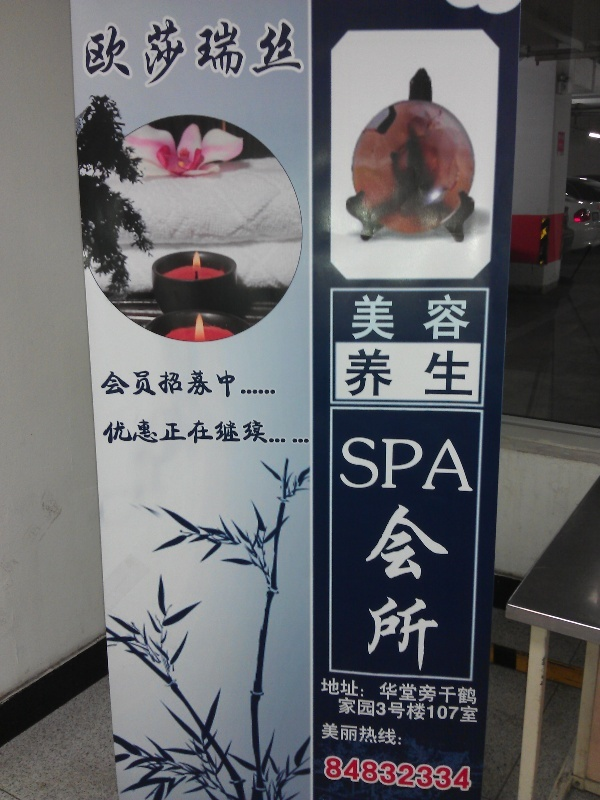text: (369, 499, 384, 673), (385, 499, 400, 673), (401, 499, 416, 673), (417, 499, 432, 673), (433, 499, 448, 673), (81, 14, 96, 88), (97, 14, 112, 88), (113, 14, 128, 88), (129, 14, 144, 88), (145, 14, 160, 88), (161, 14, 176, 88), (177, 14, 192, 88), (193, 14, 208, 88), (209, 14, 224, 88), (225, 14, 240, 88), (241, 14, 256, 88), (257, 14, 272, 88), (273, 14, 288, 88), (289, 14, 304, 88), (337, 436, 352, 492), (353, 436, 368, 492), (369, 436, 384, 492), (385, 436, 400, 492), (401, 436, 416, 492), (417, 436, 432, 492), (433, 436, 448, 492), (449, 436, 464, 492), (353, 347, 368, 399), (369, 347, 384, 399), (385, 347, 400, 399), (401, 347, 416, 399), (417, 347, 432, 399), (433, 347, 448, 399), (449, 347, 464, 399), (353, 295, 368, 340), (369, 295, 384, 340), (385, 295, 400, 340), (401, 295, 416, 340), (417, 295, 432, 340), (433, 295, 448, 340), (449, 295, 464, 340), (465, 436, 476, 492), (337, 754, 352, 793), (353, 754, 368, 793), (369, 754, 384, 793), (385, 754, 400, 793), (401, 754, 416, 793), (417, 754, 432, 793), (433, 754, 448, 793), (449, 754, 464, 793), (324, 754, 336, 793), (465, 347, 474, 399), (113, 368, 128, 399), (129, 368, 144, 399), (145, 368, 160, 399), (161, 368, 176, 399), (177, 368, 192, 399), (193, 368, 208, 399), (209, 368, 224, 399), (225, 368, 240, 399), (241, 368, 256, 399), (257, 368, 272, 399), (321, 676, 336, 705), (337, 676, 352, 705), (353, 676, 368, 705), (369, 676, 384, 705), (385, 676, 400, 705), (401, 676, 416, 705), (417, 676, 432, 705), (433, 676, 448, 705), (449, 676, 464, 705), (465, 676, 480, 705), (465, 697, 481, 724), (113, 418, 128, 445), (129, 418, 144, 445), (145, 418, 160, 445), (161, 418, 176, 445), (177, 418, 192, 445), (193, 418, 208, 445), (209, 418, 224, 445), (225, 418, 240, 445), (241, 418, 256, 445), (257, 418, 272, 445), (273, 418, 288, 445), (289, 418, 304, 445), (337, 697, 352, 724), (353, 697, 368, 724), (369, 697, 384, 724), (385, 697, 400, 724), (401, 697, 416, 724), (417, 697, 432, 724), (433, 697, 448, 724), (449, 697, 464, 724), (321, 722, 336, 747), (337, 722, 352, 747), (353, 722, 368, 747), (369, 722, 384, 747), (385, 722, 400, 747), (465, 754, 474, 793), (99, 418, 112, 445), (366, 499, 368, 673), (101, 368, 112, 399), (346, 347, 352, 399), (273, 368, 279, 399), (465, 295, 469, 340), (401, 722, 408, 747), (449, 499, 450, 673), (305, 418, 311, 445), (79, 14, 80, 88), (481, 676, 483, 705), (351, 295, 352, 340)
